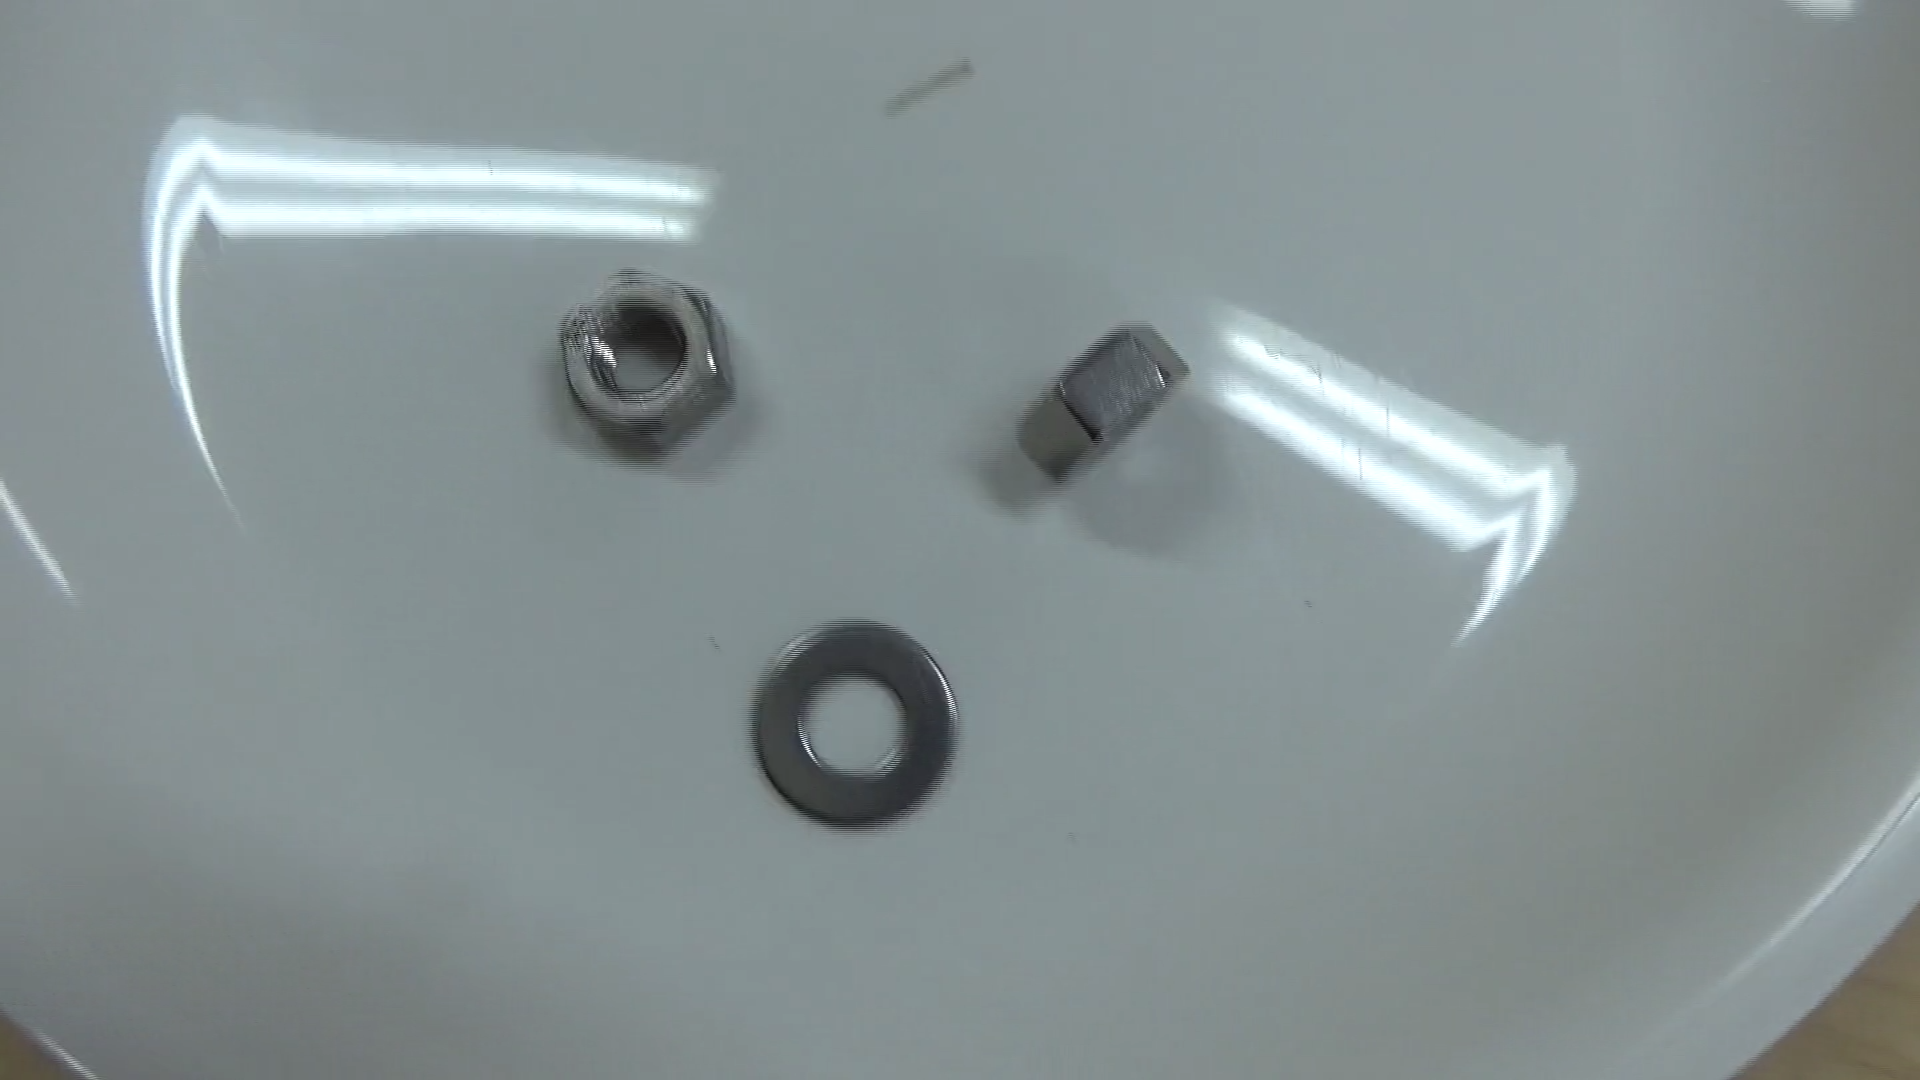nut: (535, 266, 742, 462), (1013, 311, 1193, 500)
washer: (737, 608, 973, 840)
